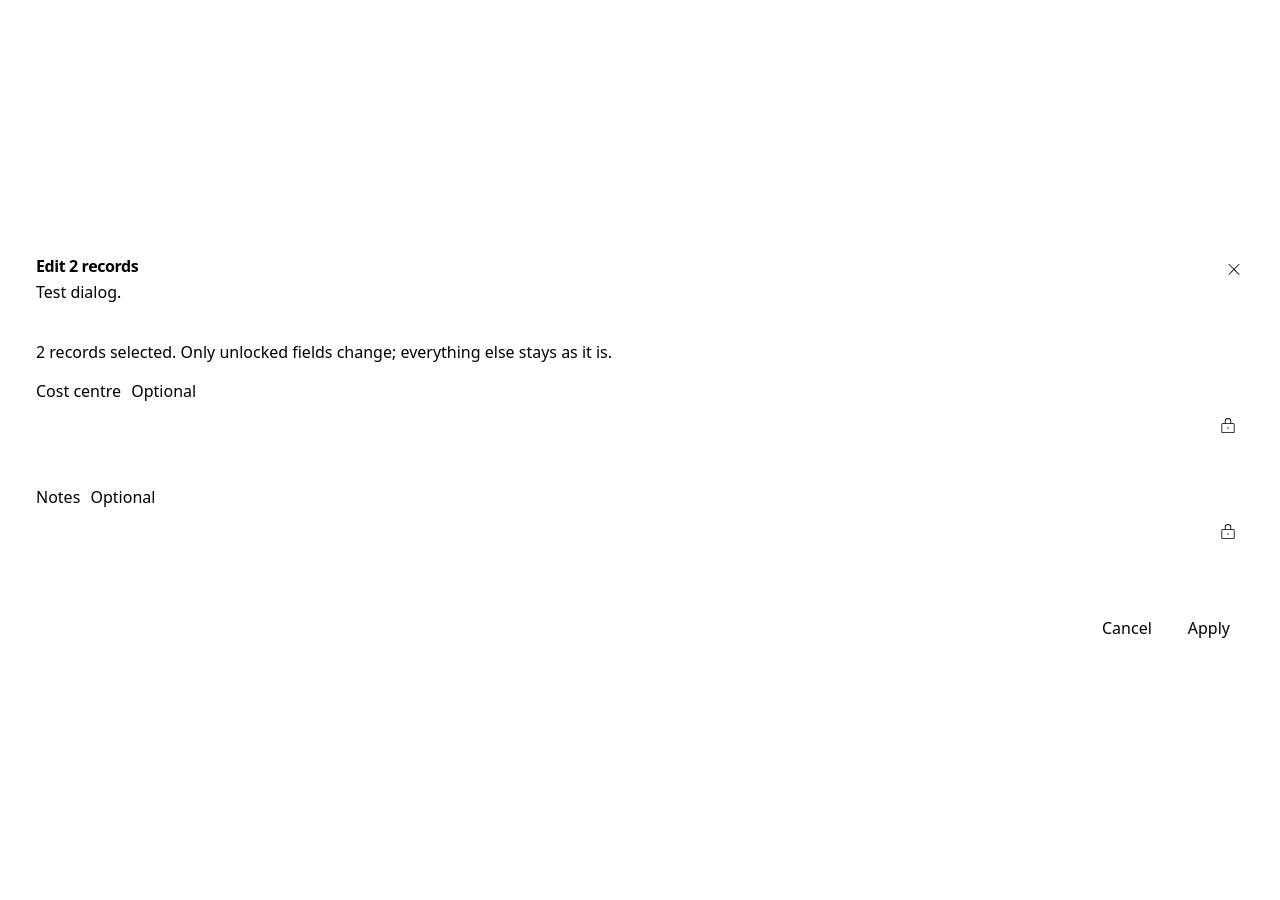
Test: BulkEditDialog › refuses to submit with everything locked
The image size is (1280, 900).
What coordinates should you click on to do the following:
click the button "Apply"
I would click on:
 (1209, 629)
Its box is [1174,611,1244,647].
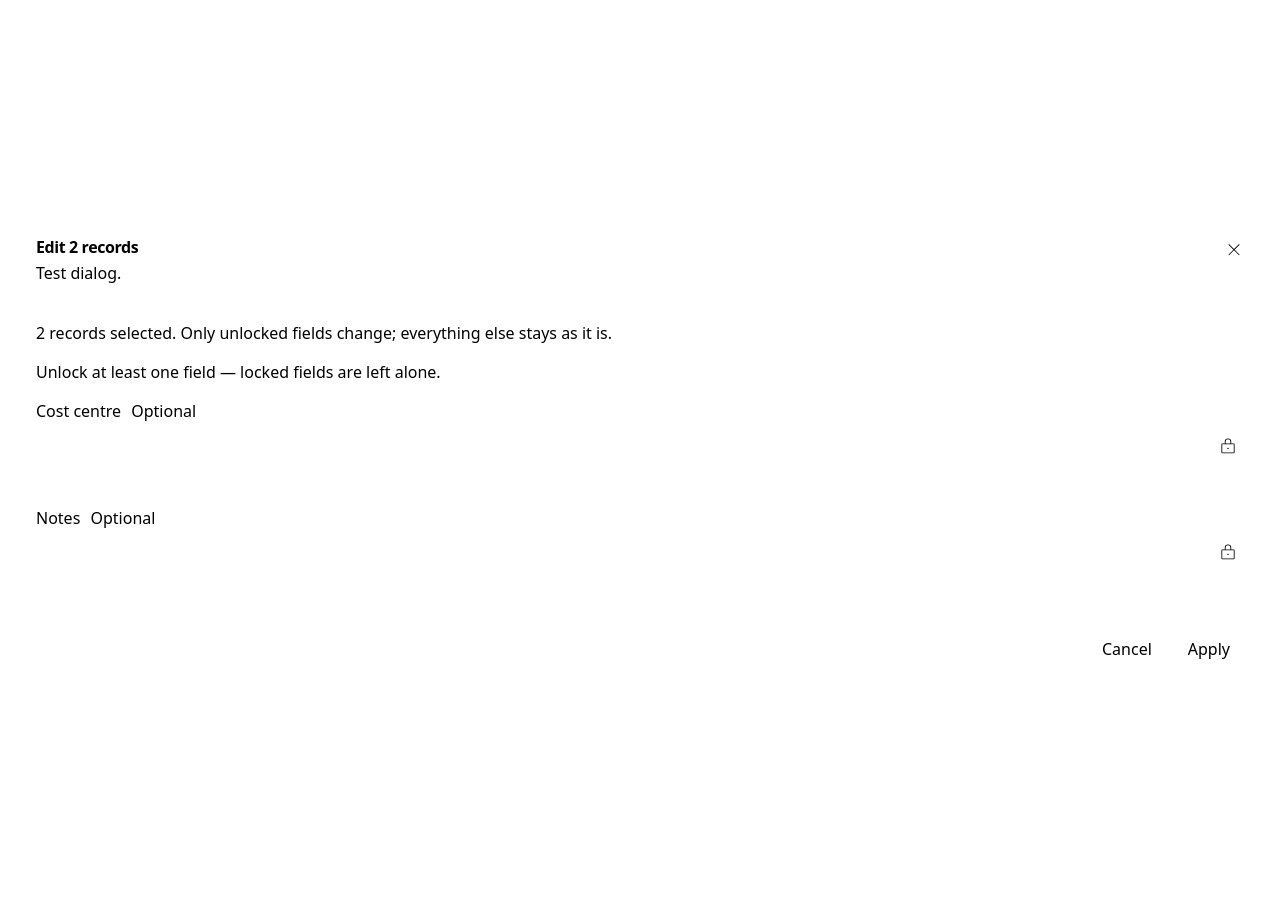
Result: the message "Unlock at least one field — locked fields are left alone." is shown at [36,361,441,383]
